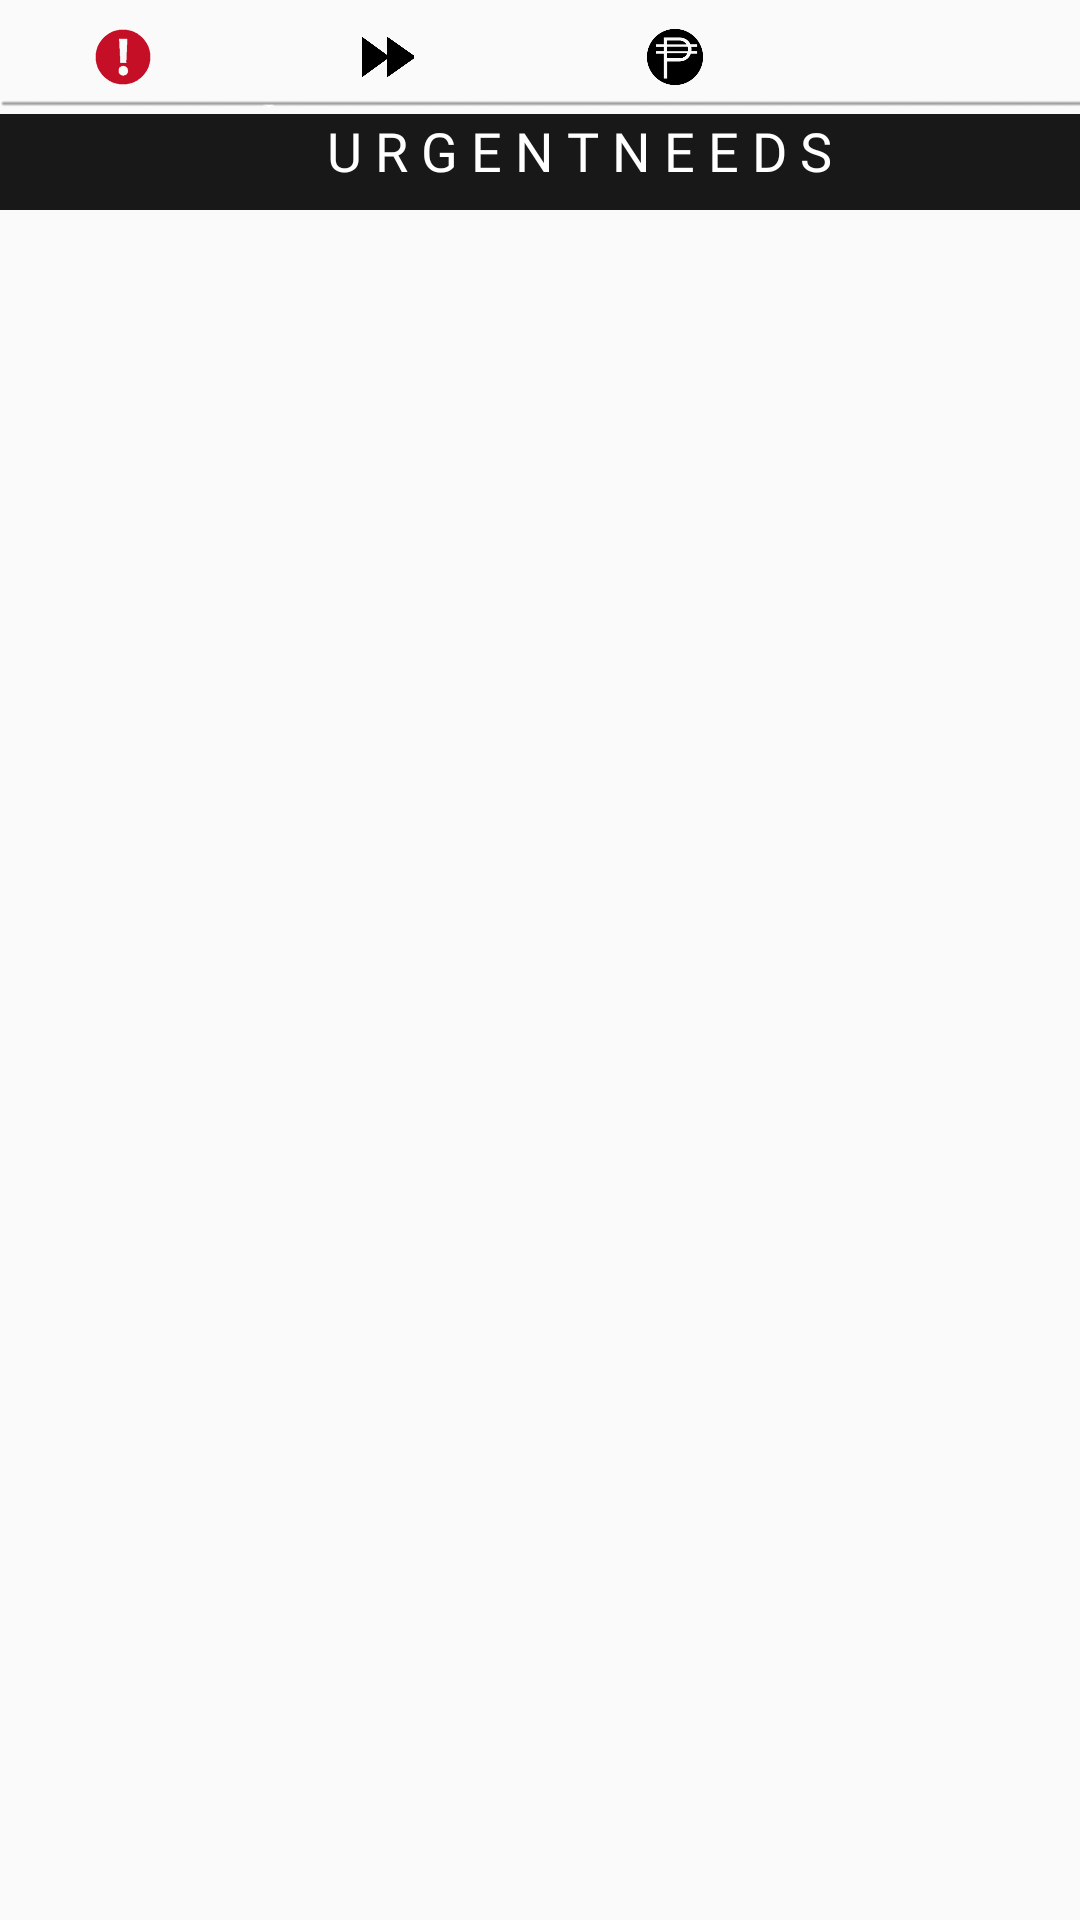

Point at icon controls on the screen. Image size 1080 × 1920, points as (x=x, y=y).
urgenticon: (x=123, y=57)
